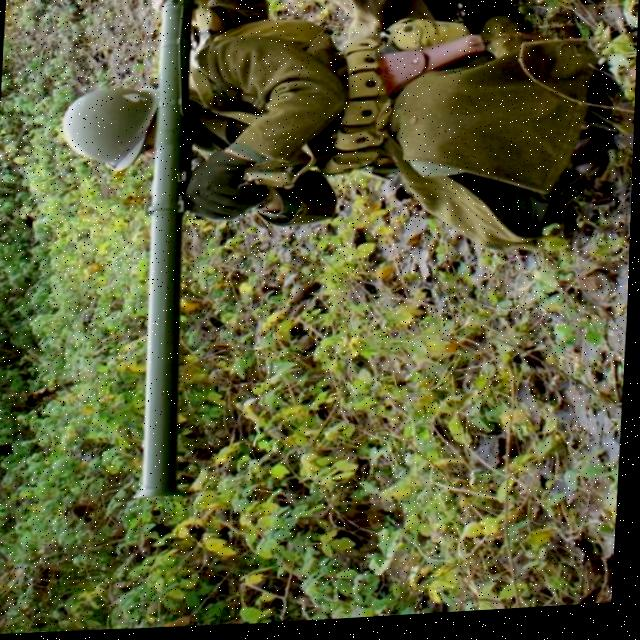rocket: (116, 0, 230, 554)
